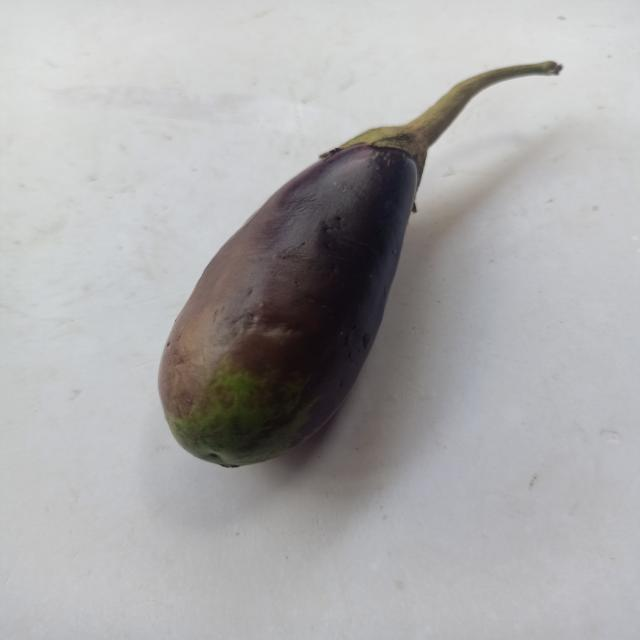Brinjal: (129, 31, 573, 475)
